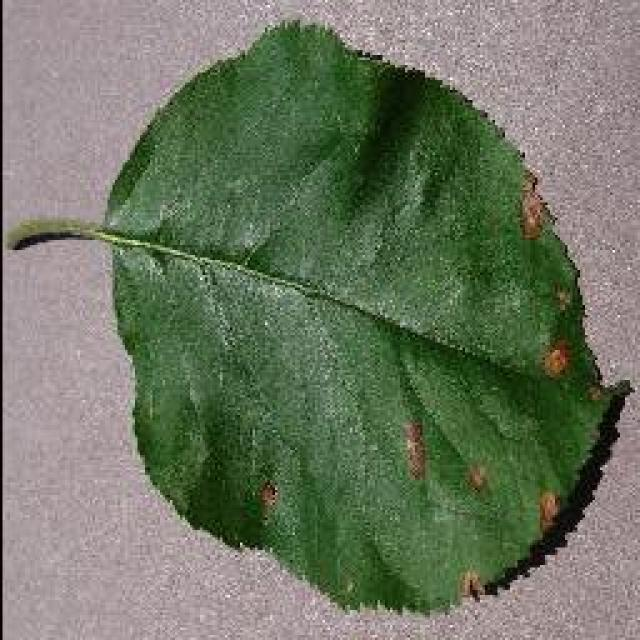Black_rot: (5, 15, 633, 617)
